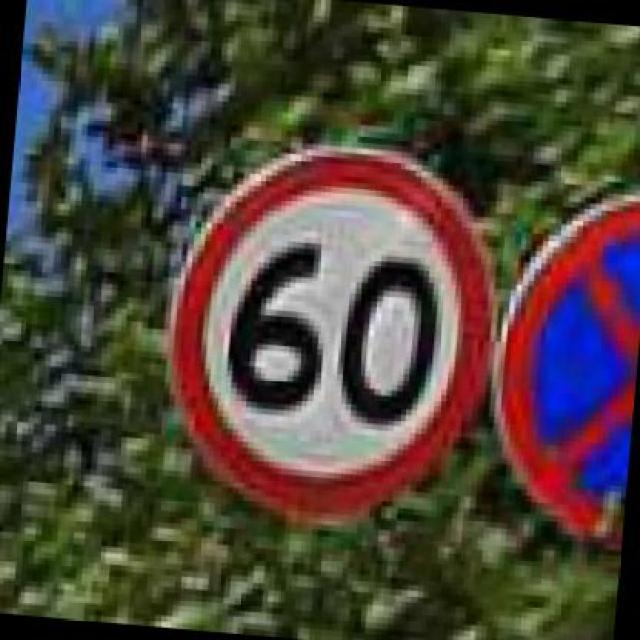Limite-60: (167, 140, 496, 525)
